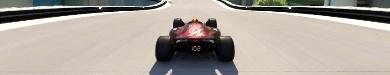Car: (154, 17, 235, 61)
Tree: (252, 0, 288, 6)
